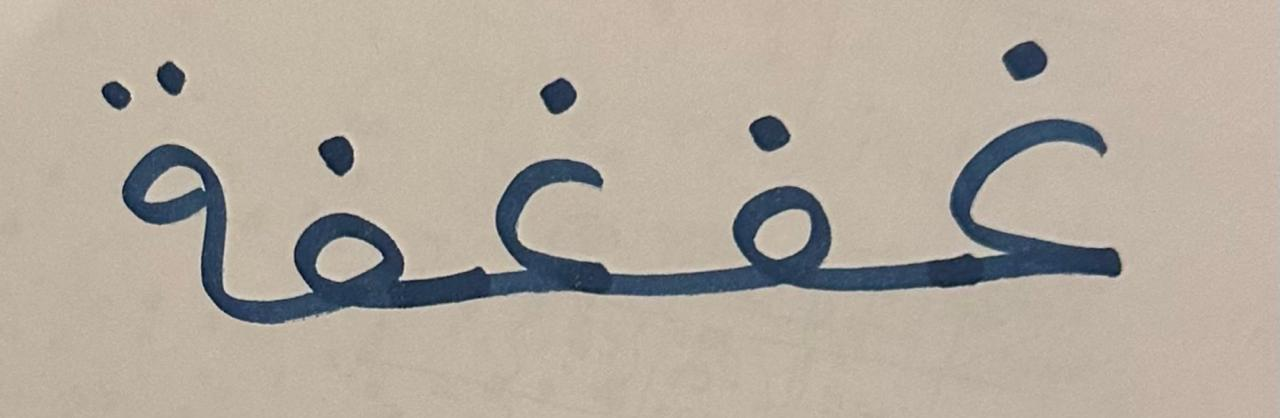feh: (654, 7, 886, 371), (251, 12, 434, 364)
ghain: (890, 3, 1159, 375), (439, 14, 651, 365)
thal: (61, 0, 248, 356)
